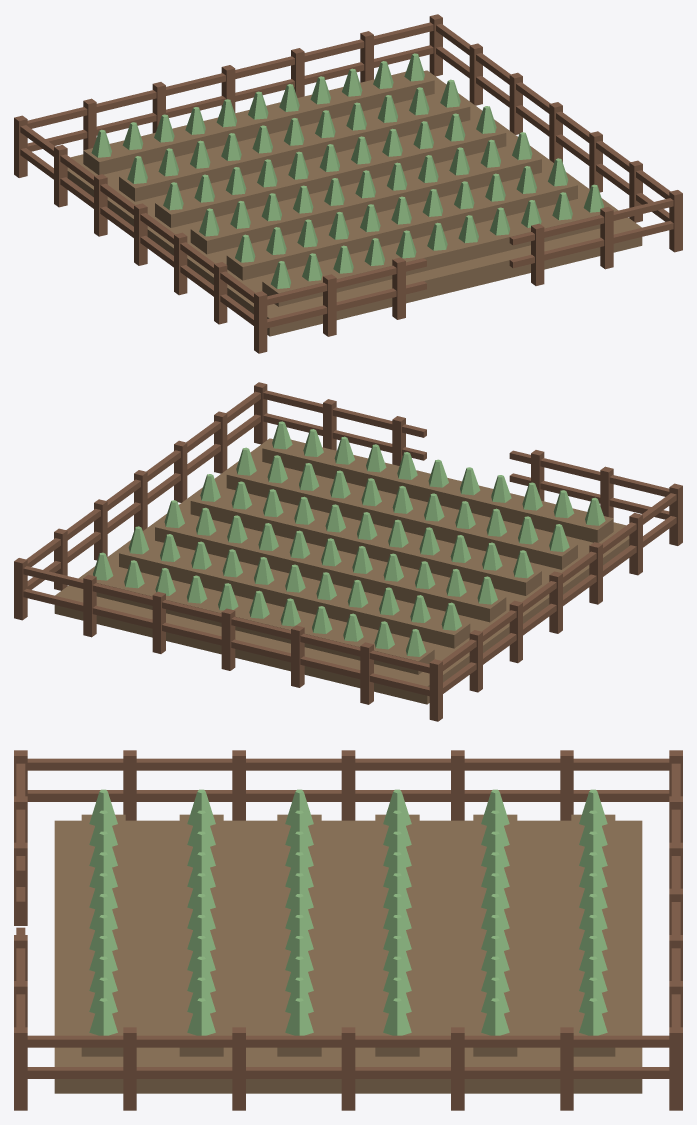
The model's file is SonMon_farm.fbx.
3 renders of one model, top to bottom at view 1: azimuth 30°, elevation 25°; view 2: azimuth 150°, elevation 25°; view 3: azimuth 270°, elevation 25°, orthographic. The views are drawn at different scales.
Parts seen in each view (by area): view 1: farm; view 2: farm; view 3: farm.
Part boxes in pixels (x1,y1,x2,y2): farm: (14,14,682,353); farm: (14,382,682,721); farm: (14,750,682,1110).
Size of the model in its own units: 2.96 by 0.38 by 2.96.
